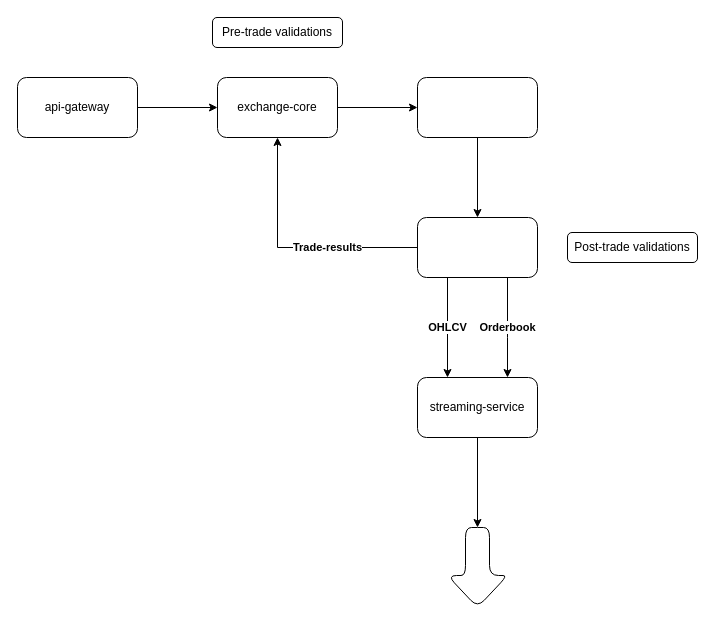
Some shapes in this 715 by 625 pixel diagram are drawn without their labels. Here are the shapes that lost their labels. From the top down, the box of each, then its label:
(416, 76, 538, 138): trading-engine
(416, 216, 538, 278): aggregator-service
(446, 526, 508, 608): users
